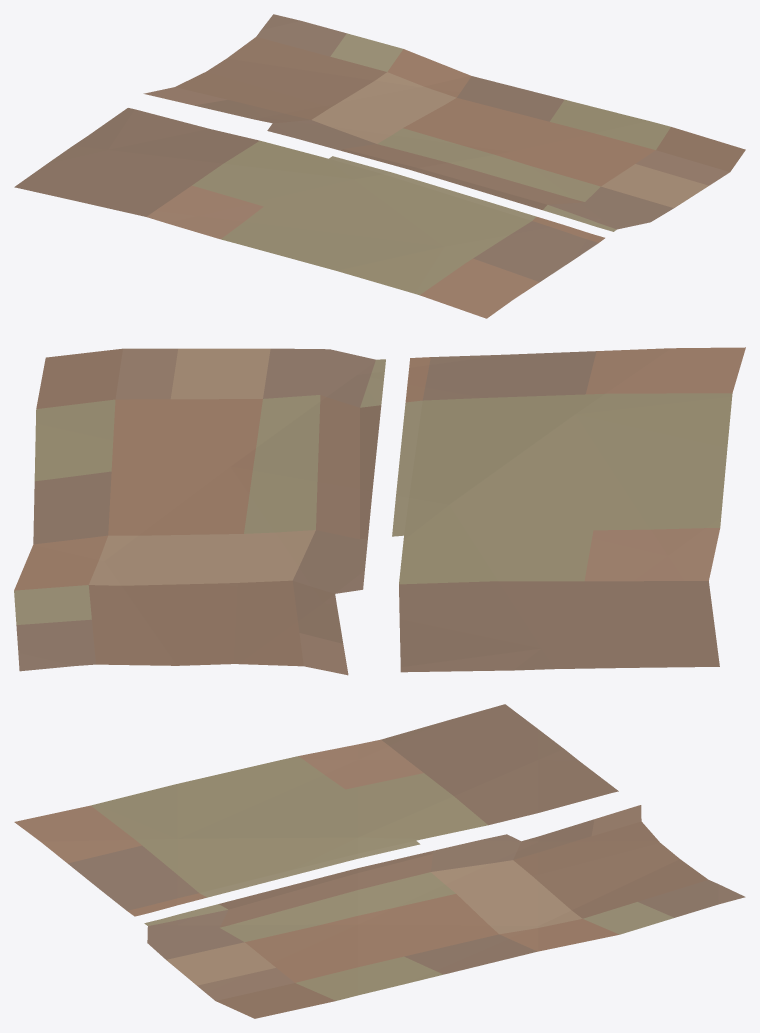
The model's file is farm_5_8_soil.glb.
The picture shows the model from 3 angles, top to bottom: view 1: azimuth 30°, elevation 25°; view 2: azimuth 150°, elevation 25°; view 3: azimuth 270°, elevation 25°; orthographic projection. The views are drawn at different scales.
Parts seen in each view (by area): view 1: geometry_0; view 2: geometry_0; view 3: geometry_0.
Part boxes in pixels (x1,y1,x2,y2): geometry_0: (14,14,745,318); geometry_0: (14,347,745,675); geometry_0: (14,704,745,1018).
Size of the model in its own units: 311 by 9.22 by 325.
